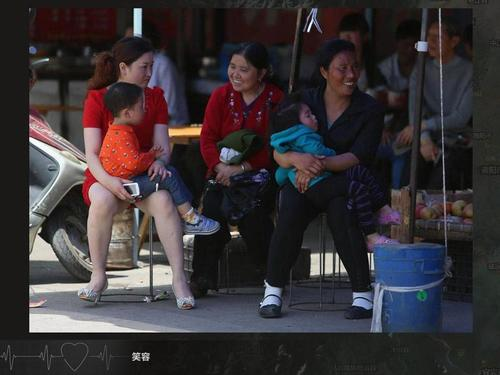no_mask: (223, 42, 275, 96), (315, 37, 360, 99), (95, 81, 148, 131), (110, 36, 157, 92), (273, 92, 320, 139)
